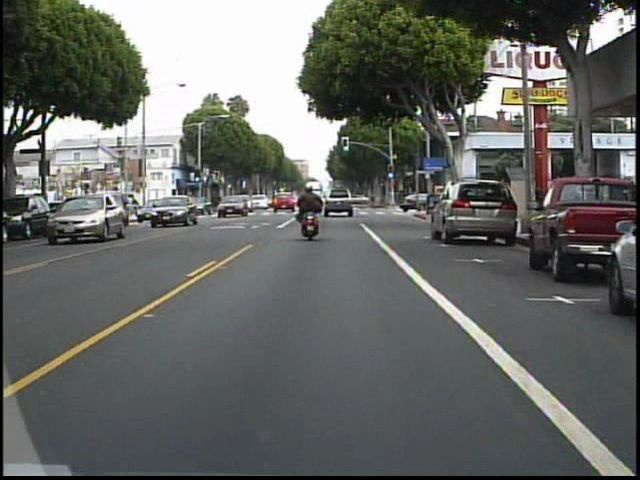person: (294, 182, 328, 241)
